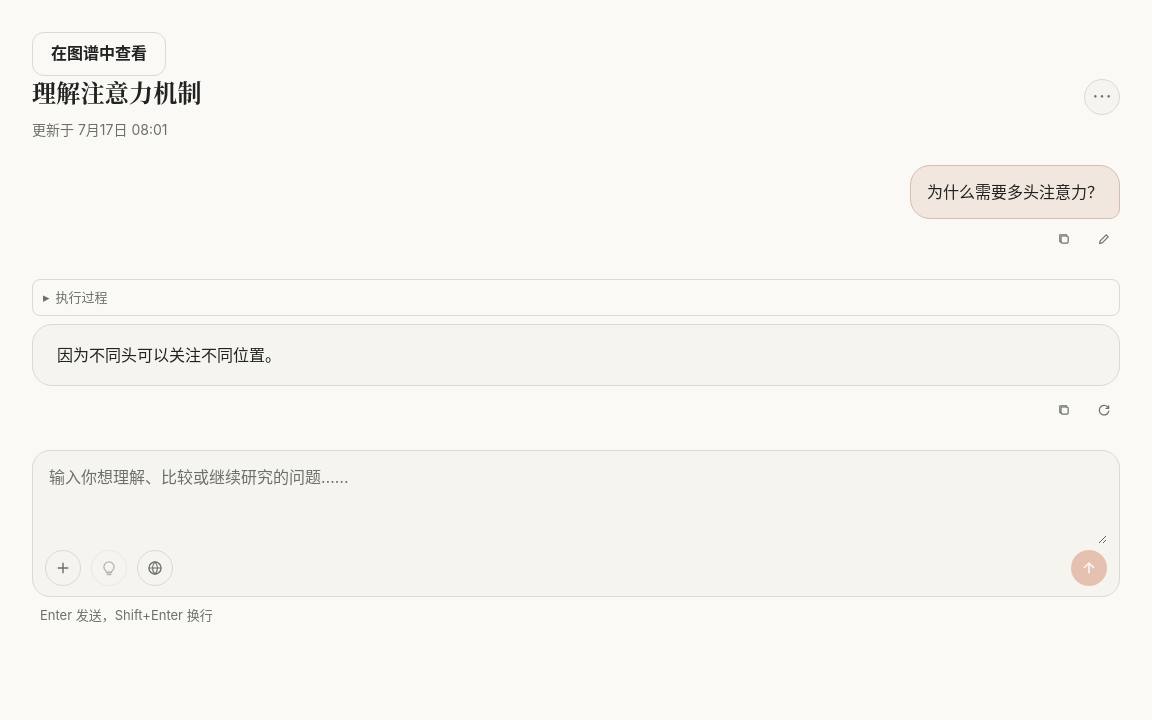
Test: ResearchNodePage 会话输入偏好 › 保存失败时回滚乐观更新并显示行内错误
Click the button named "开启必须联网".
click(155, 568)  # box 137,550 -> 173,586
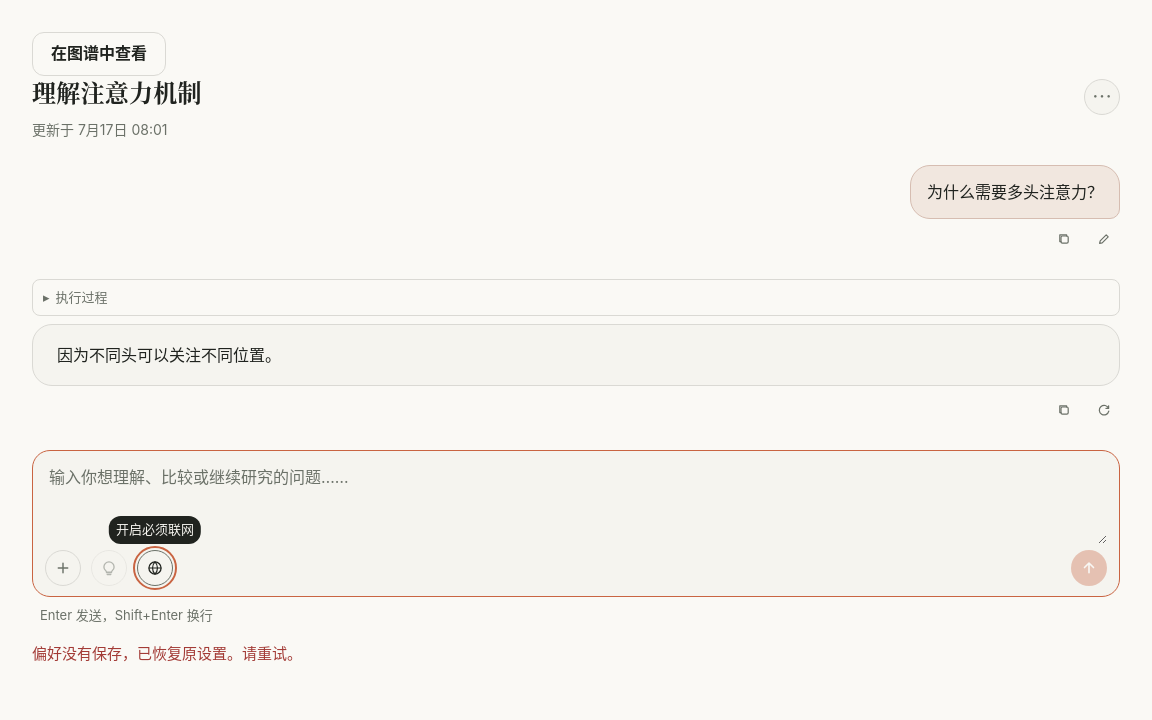
Now the text "偏好没有保存，已恢复原设置。请重试。" is shown, box 32,644 -> 302,662
